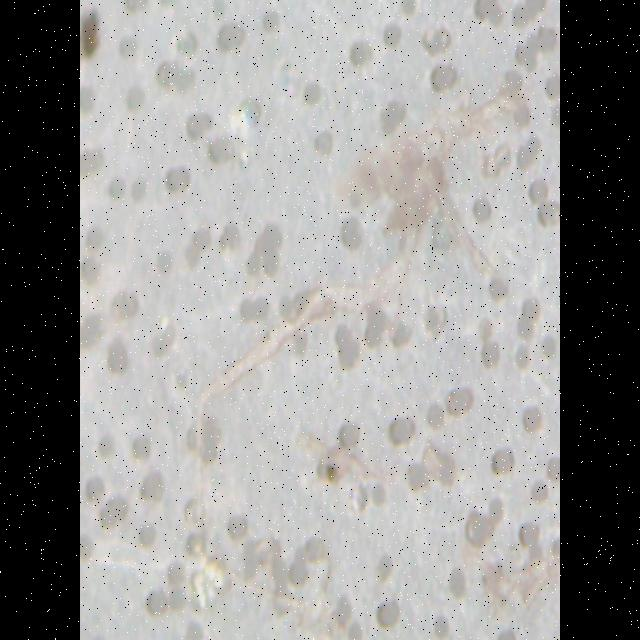Fibre: (185, 81, 538, 617)
